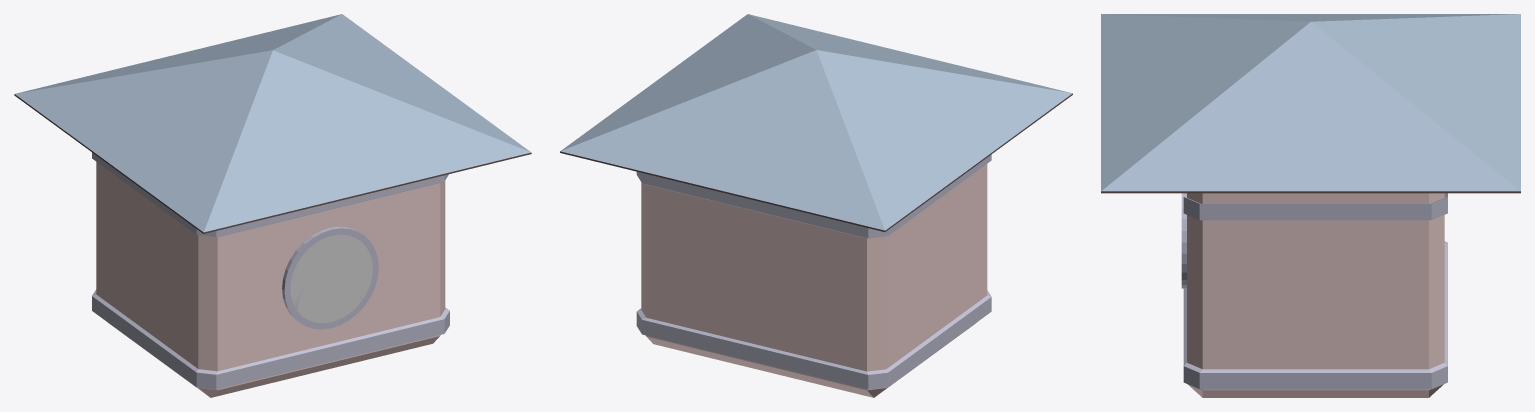
The model's file is House 2 snow.fbx.
3 renders of one model, left to right at view 1: azimuth 30°, elevation 25°; view 2: azimuth 150°, elevation 25°; view 3: azimuth 270°, elevation 25°, orthographic. The views are drawn at different scales.
Parts seen in each view (by area): view 1: Cube; view 2: Cube; view 3: Cube.
Boxes of the visible parts, box(x1,y1,x2,y2) form: Cube: box(14, 14, 531, 397); Cube: box(560, 14, 1072, 397); Cube: box(1101, 14, 1520, 397).
Size of the model in its own units: 549 by 456 by 549.
